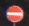No entry: (6, 5, 24, 21)
